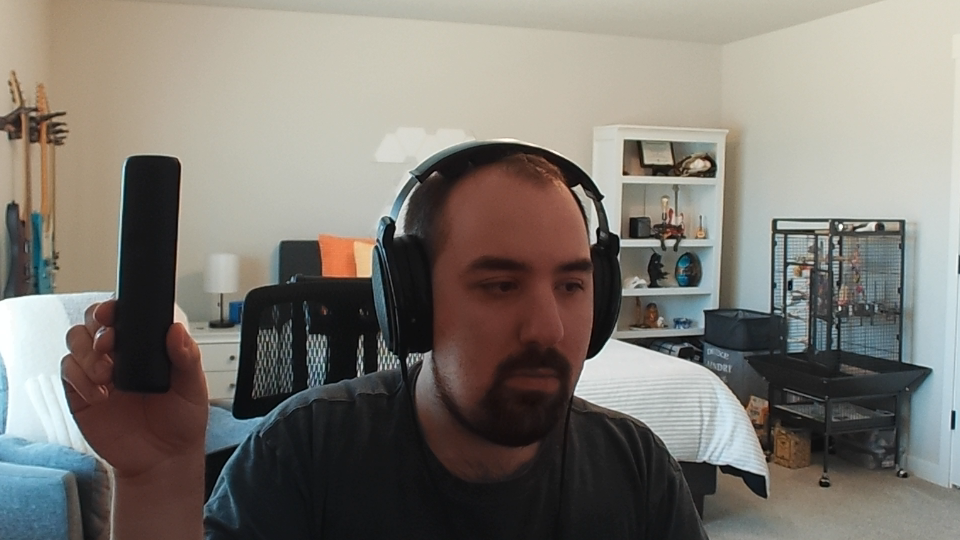TVRemote: (113, 154, 182, 394)
